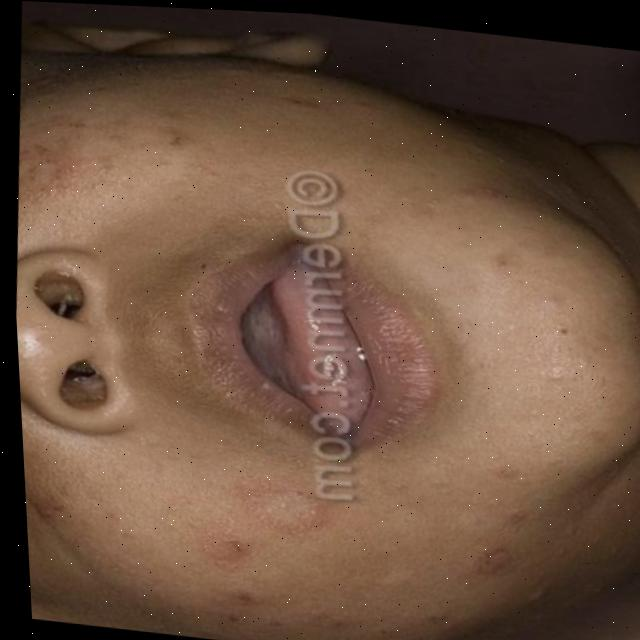Eczema: (409, 262, 617, 599), (160, 441, 357, 627), (12, 115, 64, 222)
